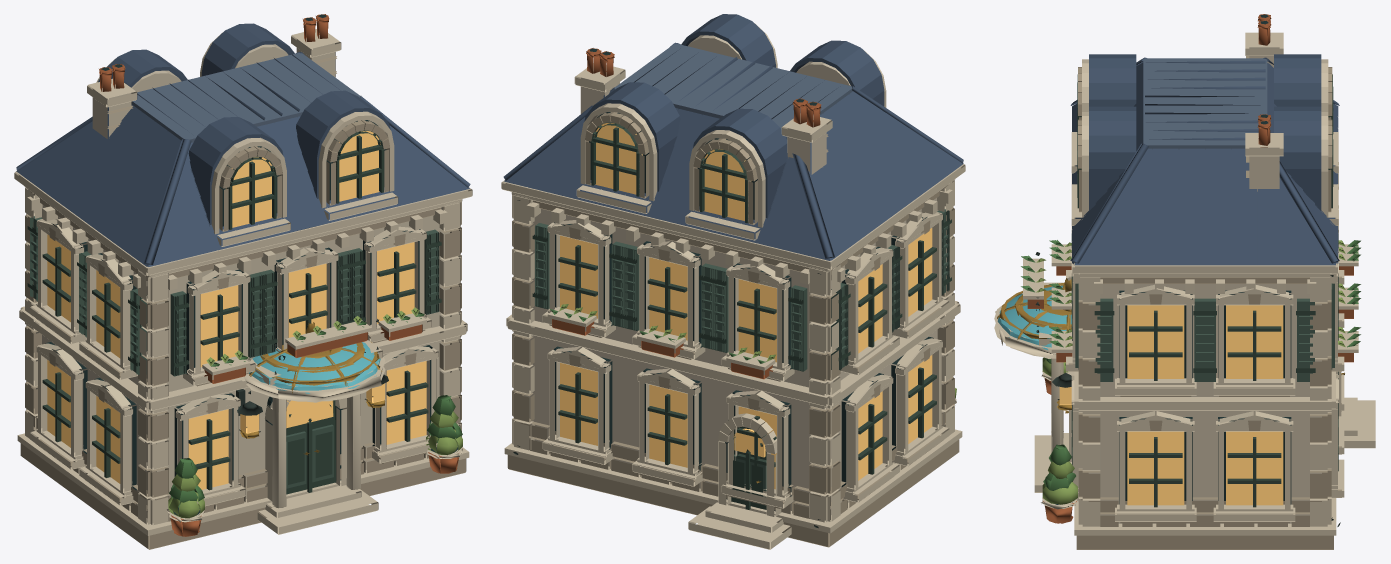
3 renders of one model, left to right at view 1: azimuth 30°, elevation 25°; view 2: azimuth 150°, elevation 25°; view 3: azimuth 270°, elevation 25°, orthographic.
Parts seen in each view (by area): view 1: classic_hotel_2_geometry, classic_hotel_2_geometry ceramic; view 2: classic_hotel_2_geometry, classic_hotel_2_geometry ceramic; view 3: classic_hotel_2_geometry, classic_hotel_2_geometry ceramic.
Part boxes in pixels (box(x1,y1,x2,y2)): classic_hotel_2_geometry: box(14, 14, 472, 549); classic_hotel_2_geometry ceramic: box(16, 23, 470, 266); classic_hotel_2_geometry: box(501, 23, 965, 549); classic_hotel_2_geometry ceramic: box(503, 14, 963, 260); classic_hotel_2_geometry: box(994, 14, 1375, 549); classic_hotel_2_geometry ceramic: box(1070, 54, 1339, 265).
Size of the model in its own units: 0.99 by 1.12 by 0.9664.
